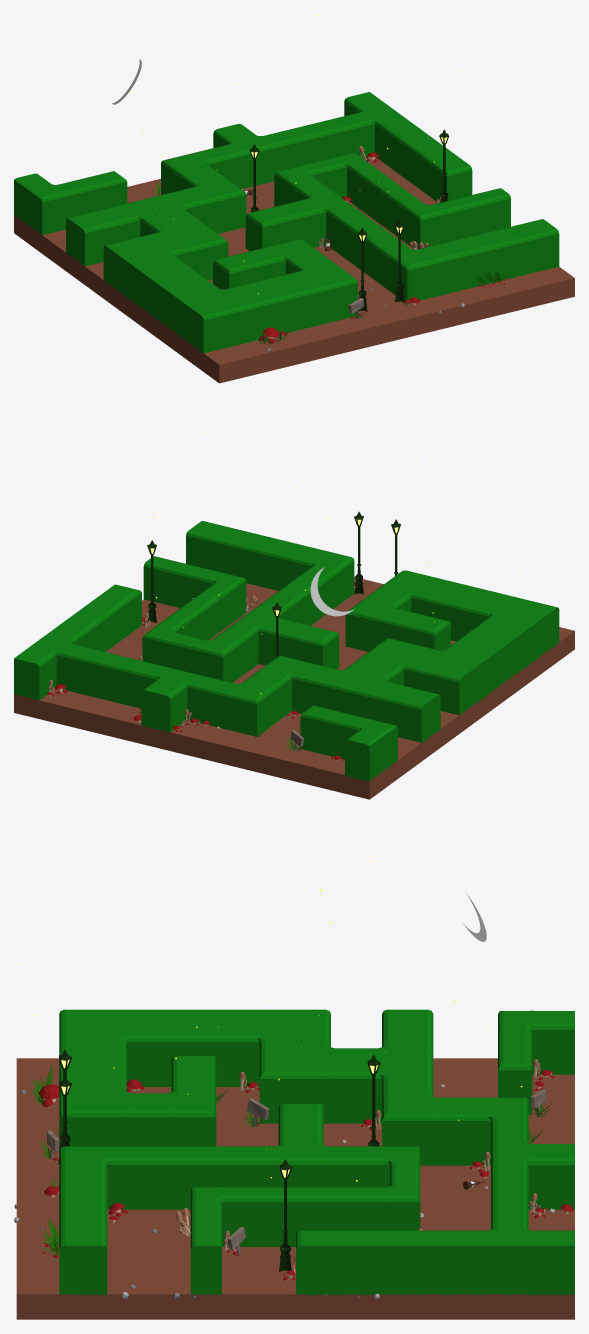
The model's file is Maze Of Madness 5.fbx.
3 views of the same model, one above another, from view 1: azimuth 30°, elevation 25°; view 2: azimuth 150°, elevation 25°; view 3: azimuth 270°, elevation 25° (orthographic). The views are drawn at different scales.
Parts seen in each view (by area): view 1: Maze, Ground; view 2: Maze, Ground; view 3: Maze, Ground.
Boxes of the visible parts, x1=… form: Maze: x1=14, y1=92, x2=559, y2=353; Ground: x1=14, y1=157, x2=574, y2=383; Maze: x1=14, y1=512, x2=559, y2=781; Ground: x1=14, y1=577, x2=574, y2=799; Maze: x1=58, y1=1009, x2=574, y2=1295; Ground: x1=16, y1=1058, x2=574, y2=1319.
Bounding box in the file's own units: 2012 × 1047 × 2010.
